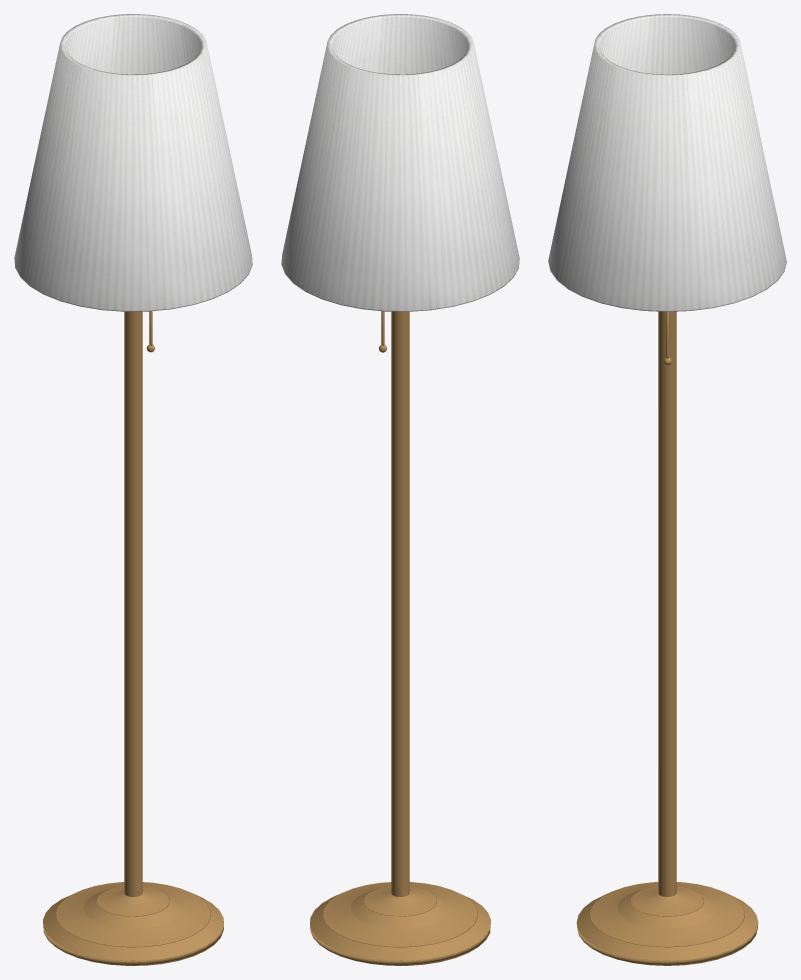
Rendered from Floor_Lamp.fbx.
3 views of the same model, side by side, from view 1: azimuth 30°, elevation 25°; view 2: azimuth 150°, elevation 25°; view 3: azimuth 270°, elevation 25° (orthographic).
Visible parts, largest first — view 1: Lampshade, Base; view 2: Lampshade, Base; view 3: Lampshade, Base.
Boxes of the visible parts, x1,y1,x2,y2 form: Lampshade: (14,14,252,311); Base: (43,311,223,965); Lampshade: (281,14,519,311); Base: (310,311,490,965); Lampshade: (548,14,786,311); Base: (576,311,758,965).
Size of the model in its own units: 168 by 684 by 168.
